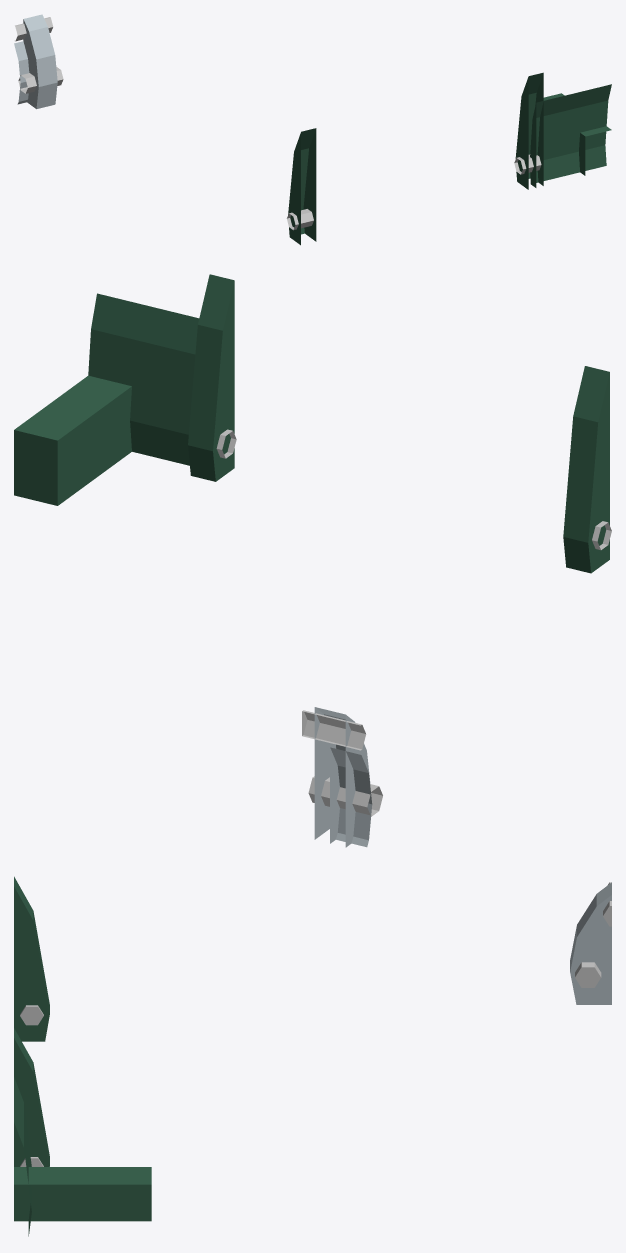
Rendered from cell_47.obj.
The picture shows the model from 3 angles, top to bottom: view 1: azimuth 30°, elevation 25°; view 2: azimuth 150°, elevation 25°; view 3: azimuth 270°, elevation 25°; orthographic projection. The views are drawn at different scales.
Bounding box in the file's own units: 1 × 0.287 × 1.
